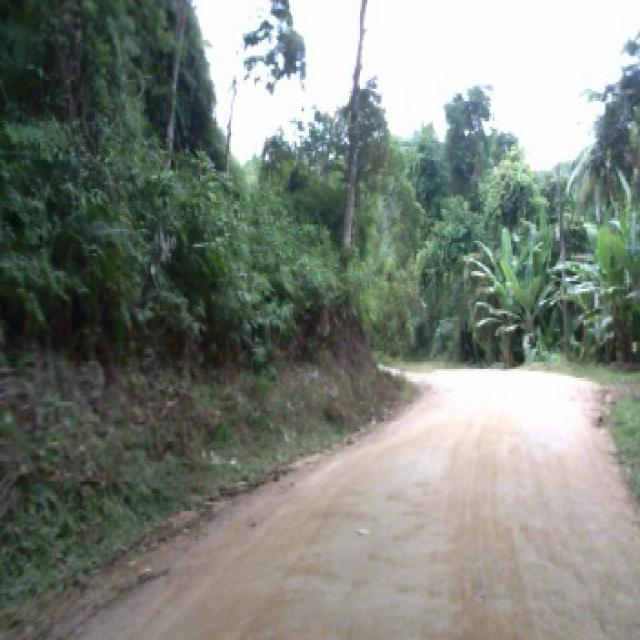Poth-hole: (3, 448, 326, 636)
